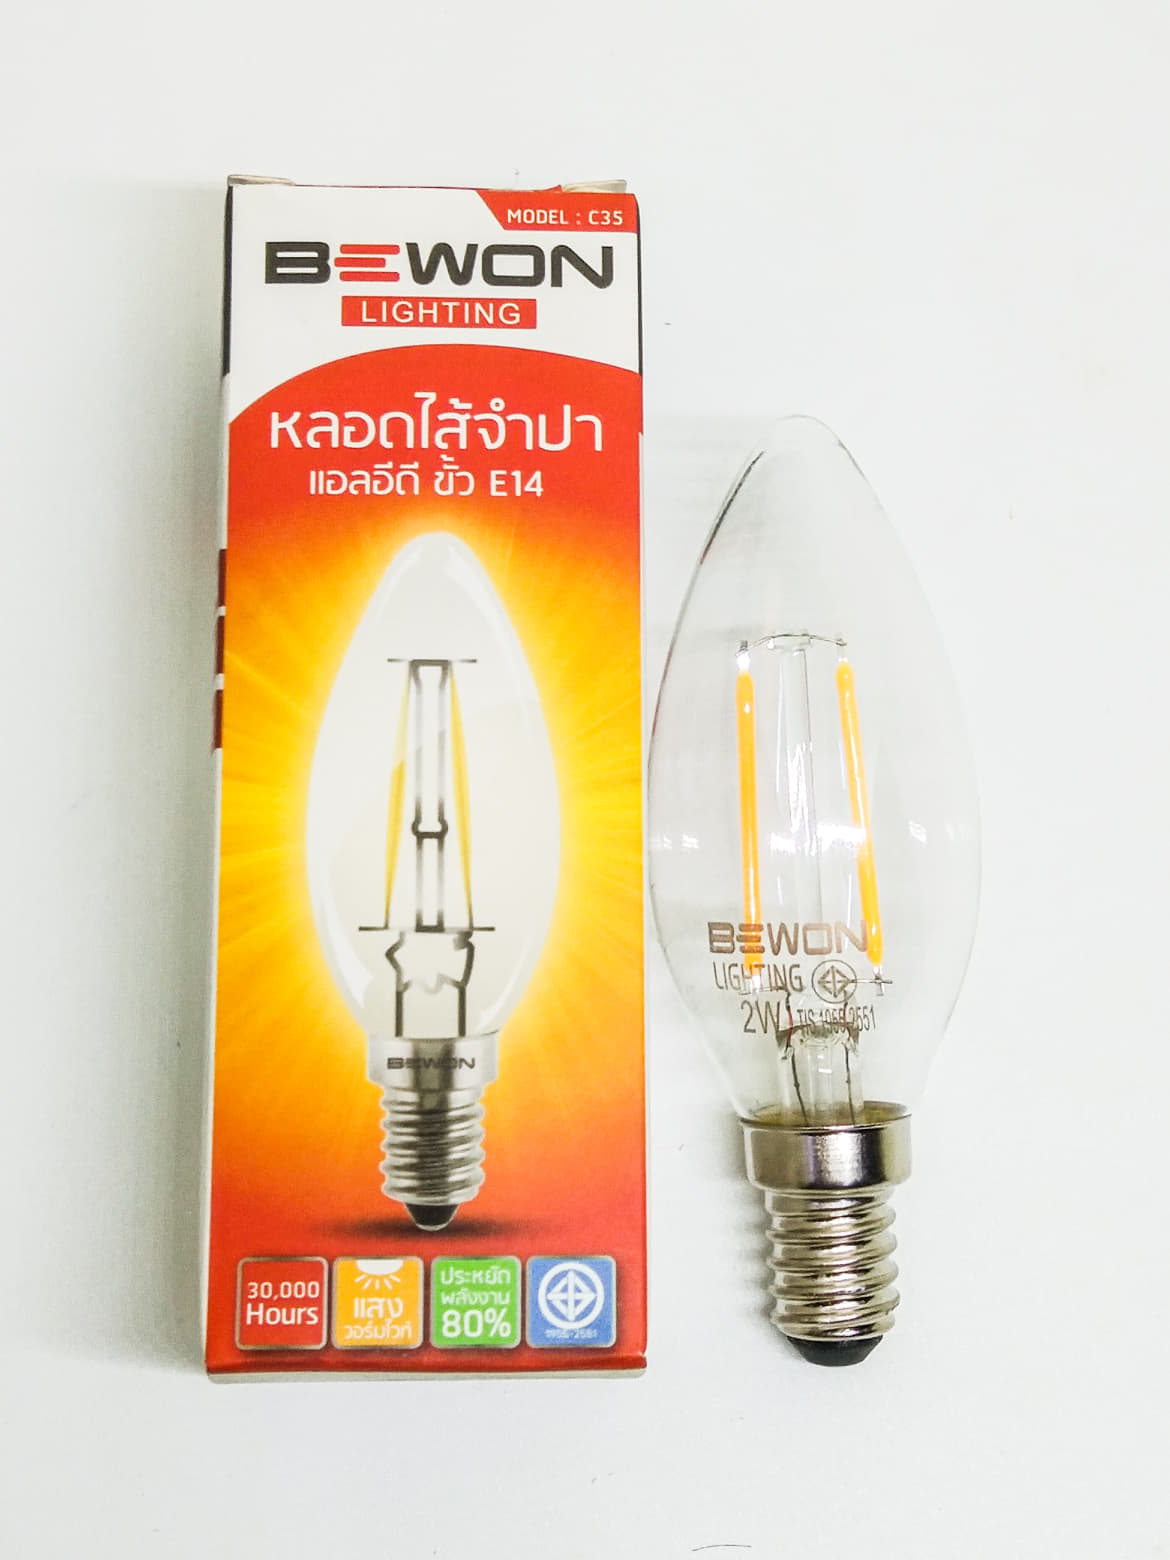Light_bulb: (632, 408, 1020, 1388)
